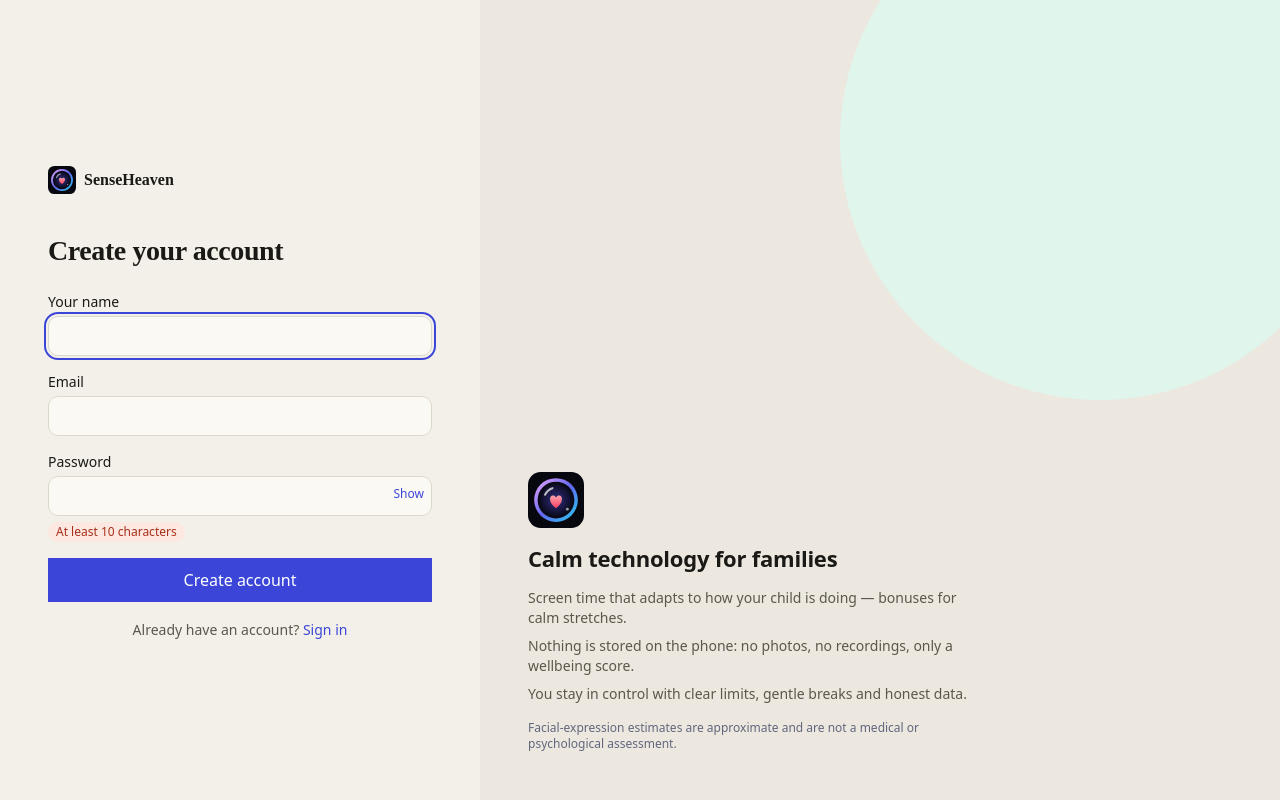
Test: auth pages (P4.7) › RegisterPage maps EMAIL_TAKEN to friendly copy
Type "Priya" into the field labelled "Your name" at (240, 336), box [48,316,432,356]
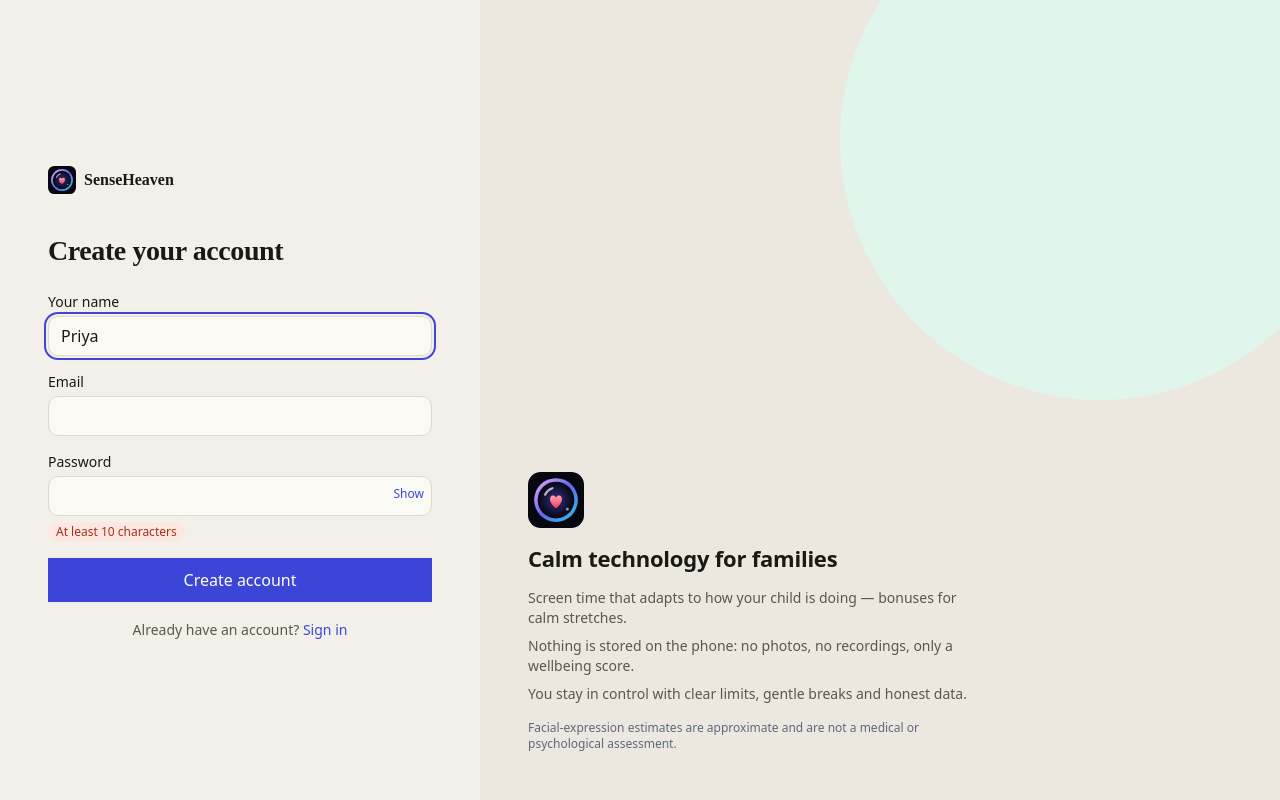
Type "taken@example.com" into the field labelled "Email" at (240, 416), box [48,396,432,436]
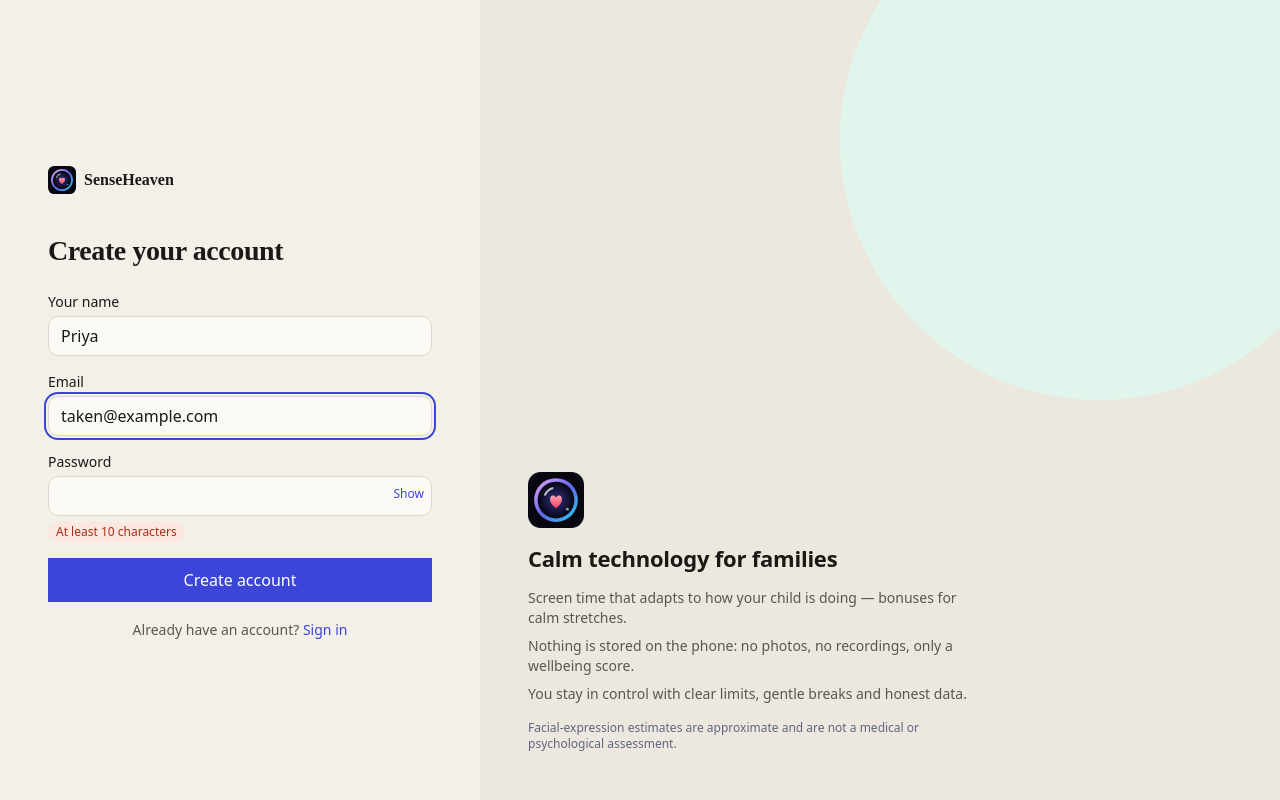
Type "LongEnough123!" into the password field labelled "Password Show At least 10 characters" at (240, 496), box [48,476,432,516]
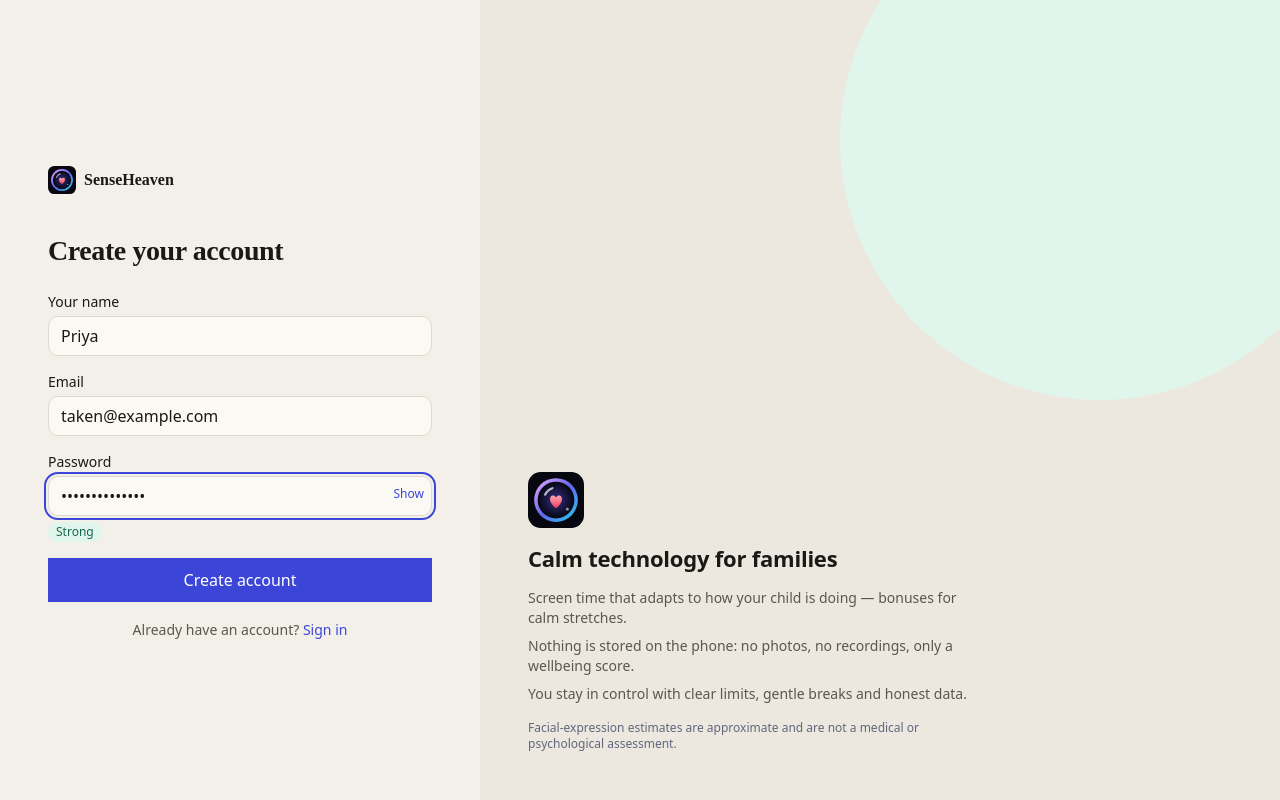
Click the button "Create account" at (240, 580), box [48,558,432,602]
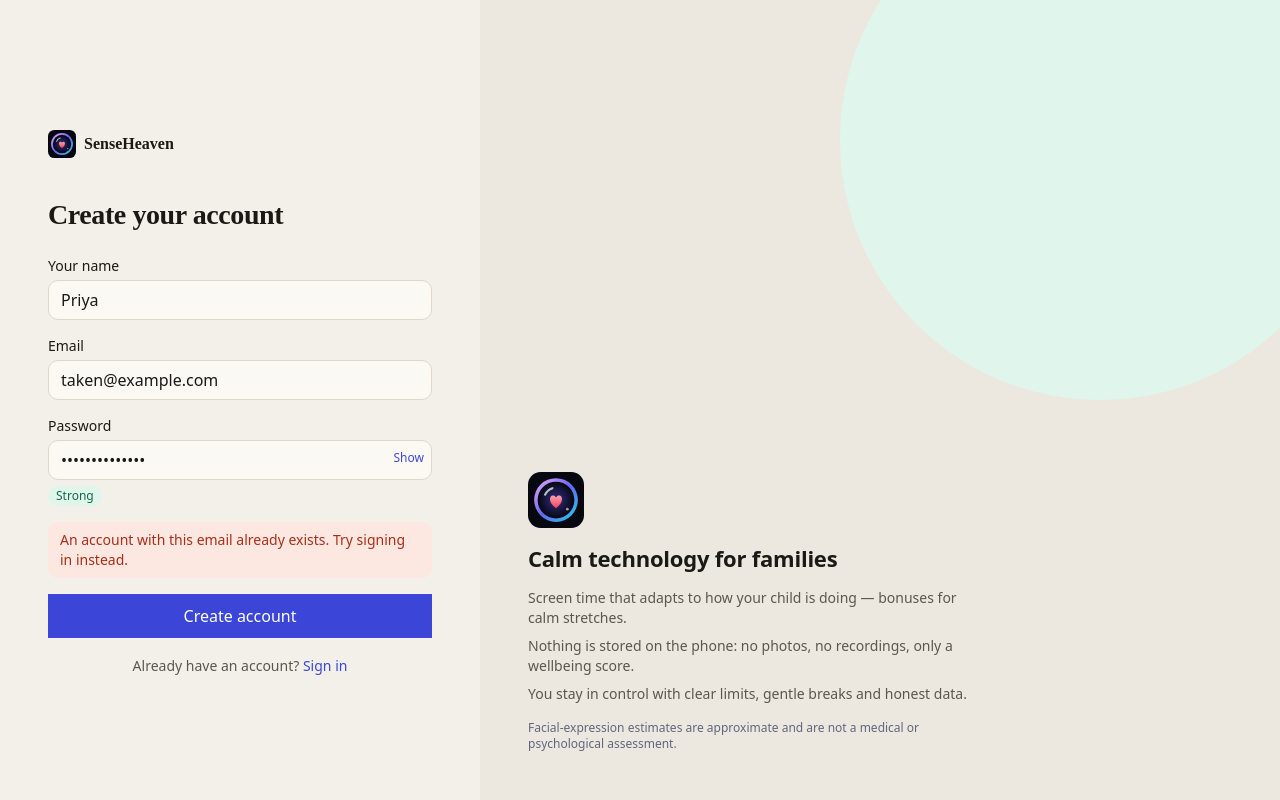
Check: the message shows "already exists", box [60,530,405,569]
